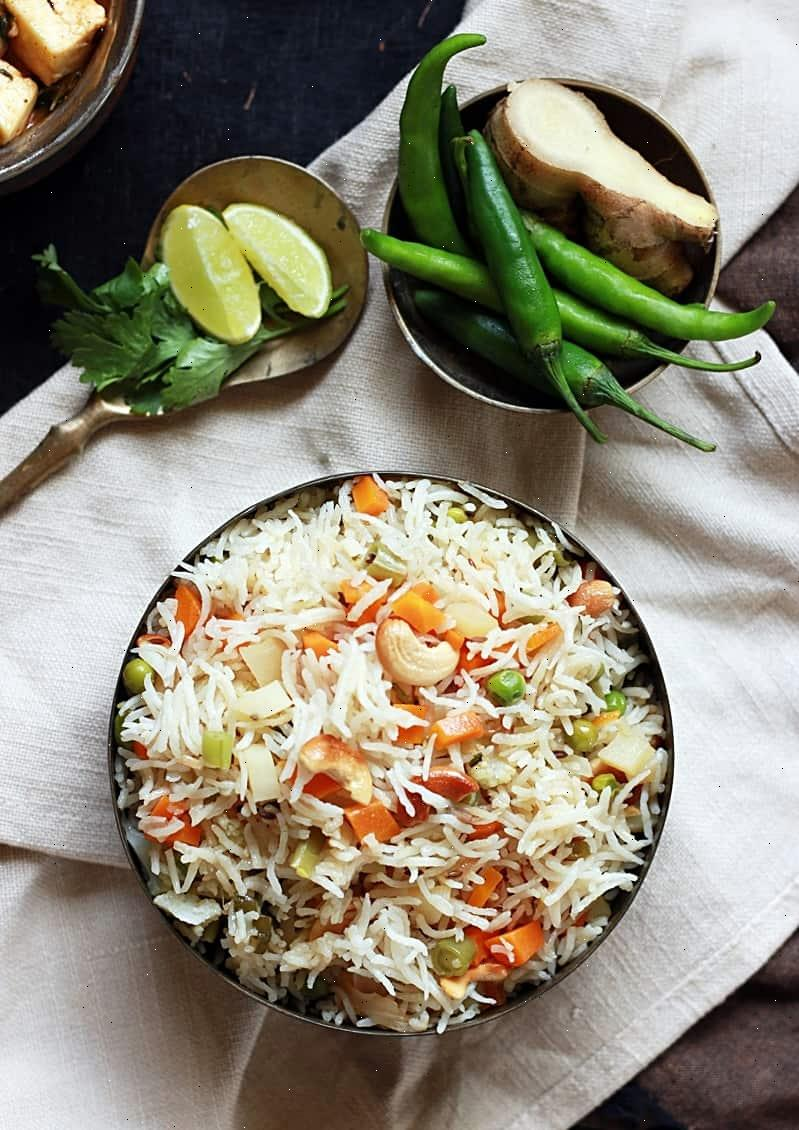veg-pulao: (124, 524, 638, 991)
